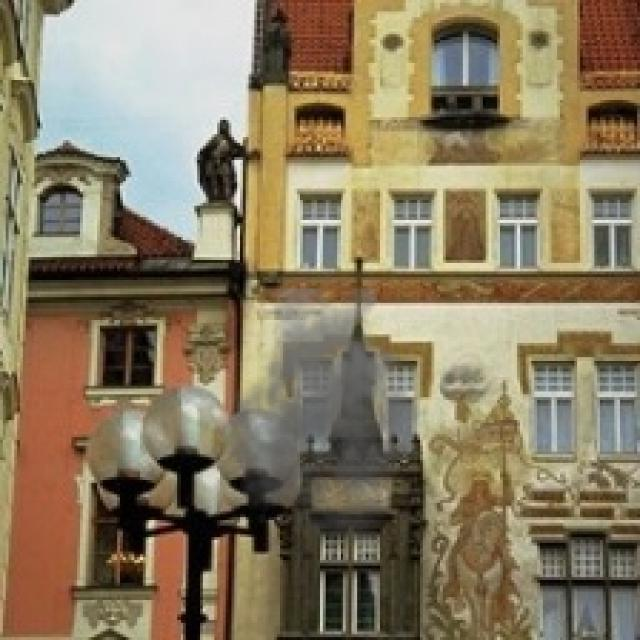smoke: (220, 288, 437, 548)
